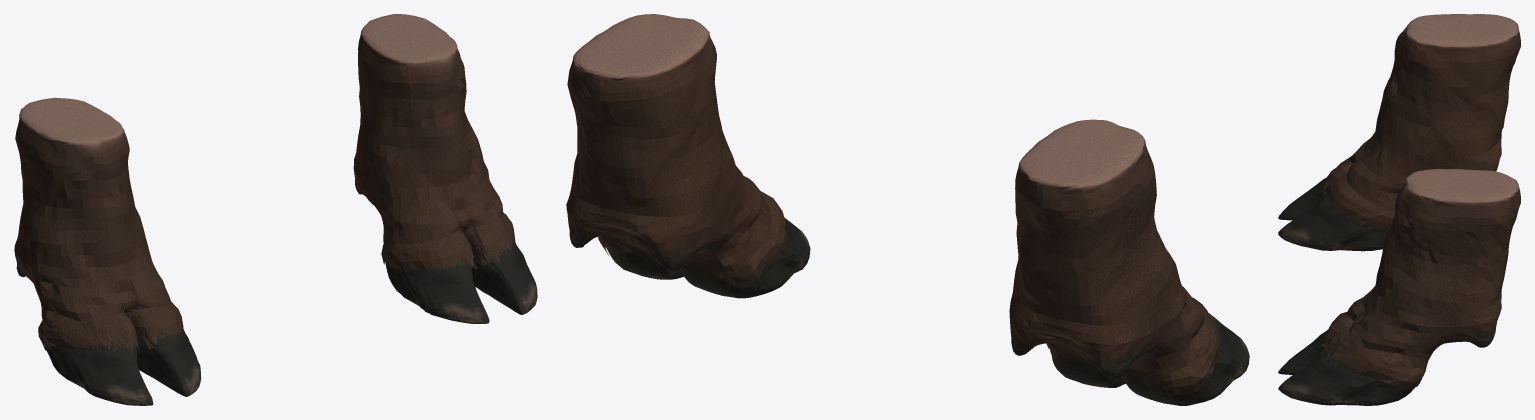
The model's file is ewm_hooves.glb.
The picture shows the model from 3 angles, left to right: view 1: azimuth 30°, elevation 25°; view 2: azimuth 150°, elevation 25°; view 3: azimuth 270°, elevation 25°; orthographic projection. The views are drawn at different scales.
Visible parts, largest first — view 1: ewm_hooves; view 2: ewm_hooves; view 3: ewm_hooves.
Part boxes in pixels (bbox=[...]): ewm_hooves: bbox=[14, 14, 537, 405]; ewm_hooves: bbox=[566, 14, 1249, 405]; ewm_hooves: bbox=[1278, 14, 1520, 405].
Bounding box in the file's own units: 0.5487 × 0.24 × 0.264.
1 material, 1 textured.
